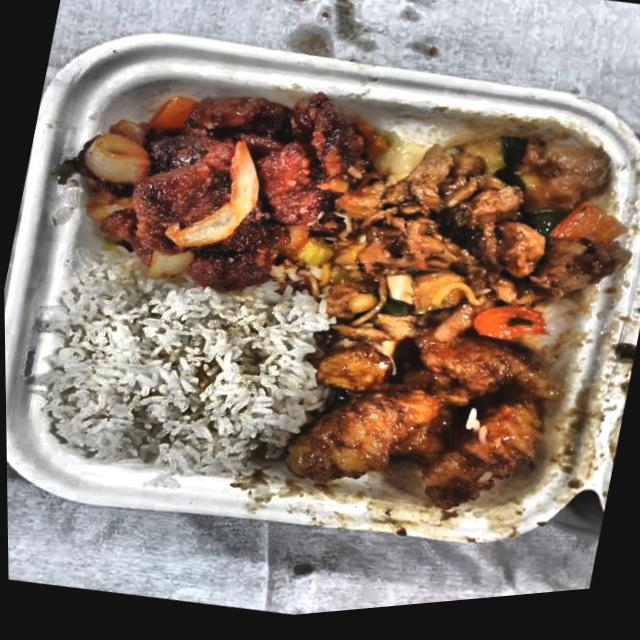Food: (310, 86, 640, 391), (50, 41, 387, 321), (20, 241, 329, 511), (279, 296, 584, 549)
